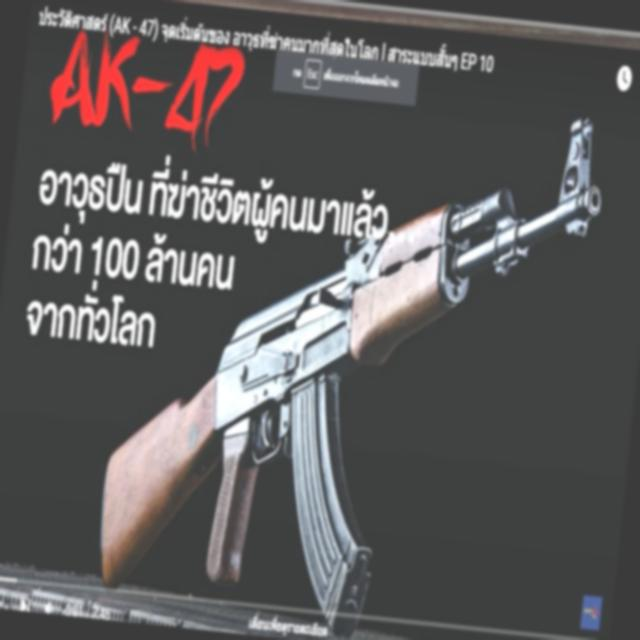ak: (93, 83, 614, 640)
